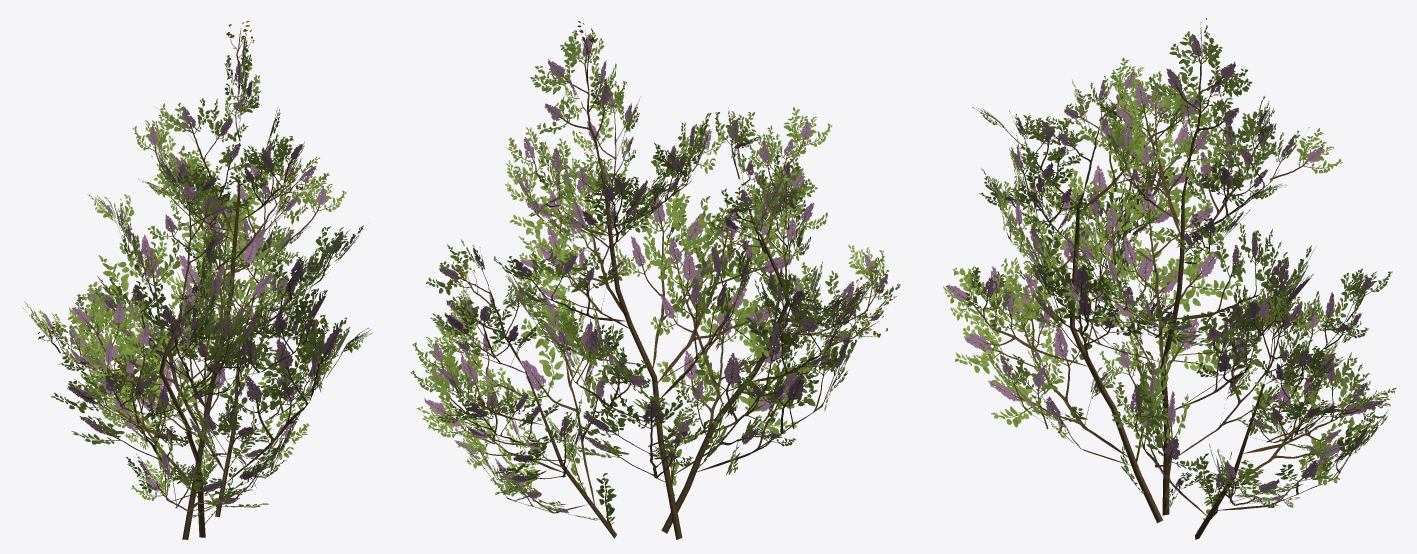
Rendered from miracle-lilac-2.glb.
3 renders of one model, left to right at view 1: azimuth 30°, elevation 25°; view 2: azimuth 150°, elevation 25°; view 3: azimuth 270°, elevation 25°, orthographic. The views are drawn at different scales.
Visible parts, largest first — view 1: Lilac_small_bush_3_LOD1_Brunches_mat_0, Lilac_small_bush_3_LOD1_Bark_mat_0; view 2: Lilac_small_bush_3_LOD1_Brunches_mat_0, Lilac_small_bush_3_LOD1_Bark_mat_0; view 3: Lilac_small_bush_3_LOD1_Brunches_mat_0, Lilac_small_bush_3_LOD1_Bark_mat_0.
Part boxes in pixels (x1=…): Lilac_small_bush_3_LOD1_Brunches_mat_0: x1=22, y1=21, x2=372, y2=523; Lilac_small_bush_3_LOD1_Bark_mat_0: x1=159, y1=177, x2=240, y2=539; Lilac_small_bush_3_LOD1_Brunches_mat_0: x1=410, y1=21, x2=900, y2=530; Lilac_small_bush_3_LOD1_Bark_mat_0: x1=525, y1=175, x2=790, y2=539; Lilac_small_bush_3_LOD1_Brunches_mat_0: x1=943, y1=18, x2=1396, y2=534; Lilac_small_bush_3_LOD1_Bark_mat_0: x1=1070, y1=176, x2=1264, y2=539.
Bounding box in the file's own units: 0.9725 × 1.15 × 0.901.
Materials: 2 (2 with a texture image).
